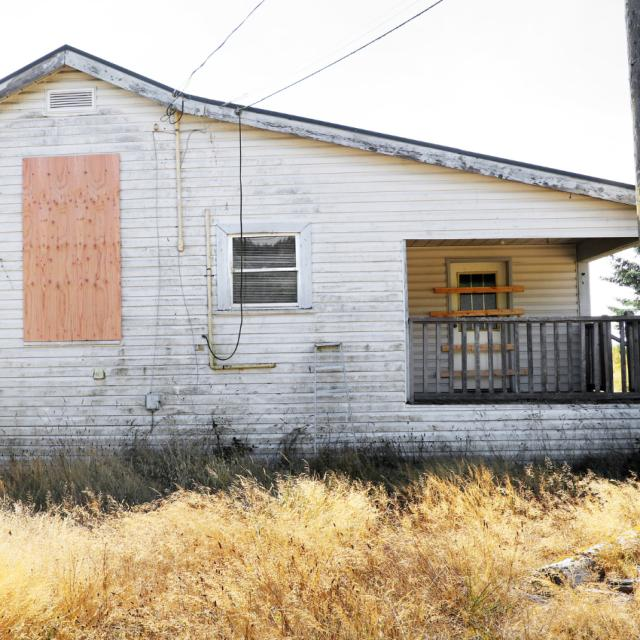House: (0, 42, 640, 498)
